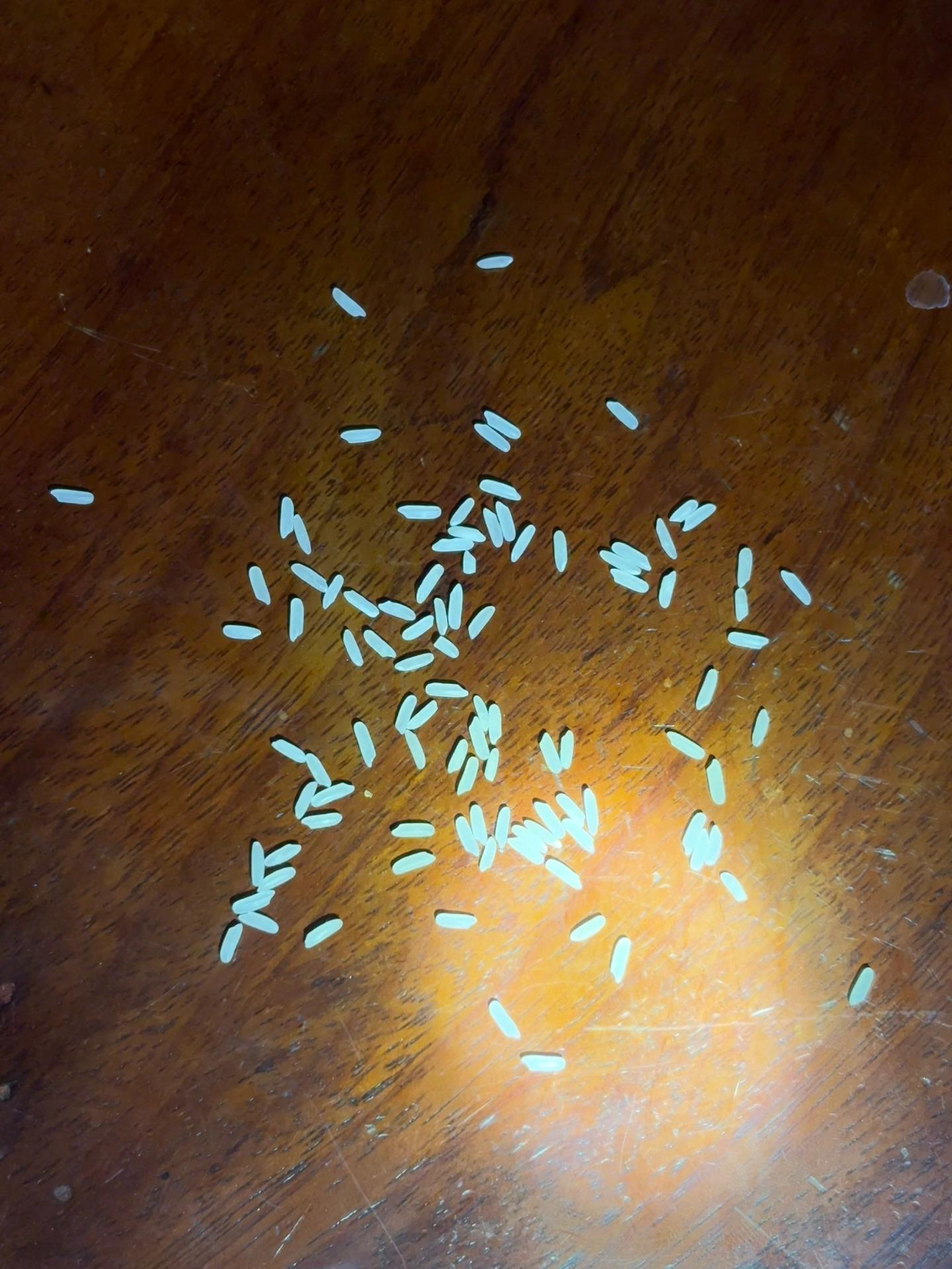Rice-th-y-nh: (489, 1001, 520, 1040), (546, 859, 583, 891), (304, 919, 343, 949), (563, 818, 595, 854), (534, 801, 564, 839), (613, 541, 652, 570), (667, 732, 705, 761), (524, 819, 561, 848), (416, 565, 444, 603), (508, 836, 544, 865), (781, 571, 812, 604), (353, 722, 376, 766), (292, 564, 328, 592), (485, 411, 521, 439), (455, 817, 480, 857), (219, 923, 244, 963), (610, 938, 632, 983), (232, 891, 275, 914), (510, 525, 536, 563), (332, 288, 366, 317), (695, 669, 719, 710), (682, 813, 706, 854), (600, 551, 641, 575), (475, 424, 510, 452), (610, 569, 649, 594), (312, 784, 354, 807), (556, 793, 585, 826), (849, 968, 874, 1006), (468, 717, 490, 760), (516, 825, 548, 854), (468, 606, 496, 639), (683, 503, 716, 531), (393, 852, 435, 874), (655, 519, 678, 559), (582, 788, 601, 836), (689, 828, 710, 871), (238, 912, 279, 934), (570, 916, 606, 941), (706, 759, 726, 804), (539, 734, 562, 773), (306, 754, 332, 788), (248, 566, 271, 604), (457, 757, 480, 795), (263, 844, 301, 867), (364, 631, 396, 658), (345, 591, 378, 617), (395, 695, 417, 734), (404, 730, 426, 769), (294, 782, 317, 819), (258, 867, 295, 890), (408, 701, 438, 729), (607, 402, 638, 429), (480, 480, 521, 500), (704, 825, 724, 866), (720, 872, 747, 902), (342, 630, 364, 666), (521, 1055, 565, 1073), (494, 806, 512, 850), (272, 740, 306, 763), (483, 509, 503, 548), (469, 805, 489, 844), (402, 616, 434, 640), (249, 841, 266, 886), (293, 515, 312, 554), (496, 502, 515, 541), (51, 488, 94, 505), (392, 822, 435, 839), (379, 601, 415, 621), (322, 575, 343, 609), (447, 740, 468, 774), (395, 654, 433, 672), (728, 633, 768, 650), (302, 812, 342, 829), (450, 498, 474, 526), (432, 537, 474, 553), (479, 837, 498, 872), (448, 585, 463, 629), (279, 497, 295, 538), (436, 913, 477, 929), (449, 525, 485, 543), (289, 598, 304, 641), (426, 683, 468, 698), (752, 710, 769, 747), (737, 548, 753, 587), (670, 500, 698, 522), (559, 731, 575, 769), (398, 505, 441, 519), (553, 531, 568, 571), (488, 704, 503, 744), (659, 572, 676, 607), (473, 696, 490, 729), (341, 429, 381, 443), (434, 636, 459, 658), (434, 598, 448, 634), (485, 748, 500, 781), (223, 626, 260, 639), (476, 256, 513, 269), (734, 589, 748, 622), (462, 551, 476, 574)
